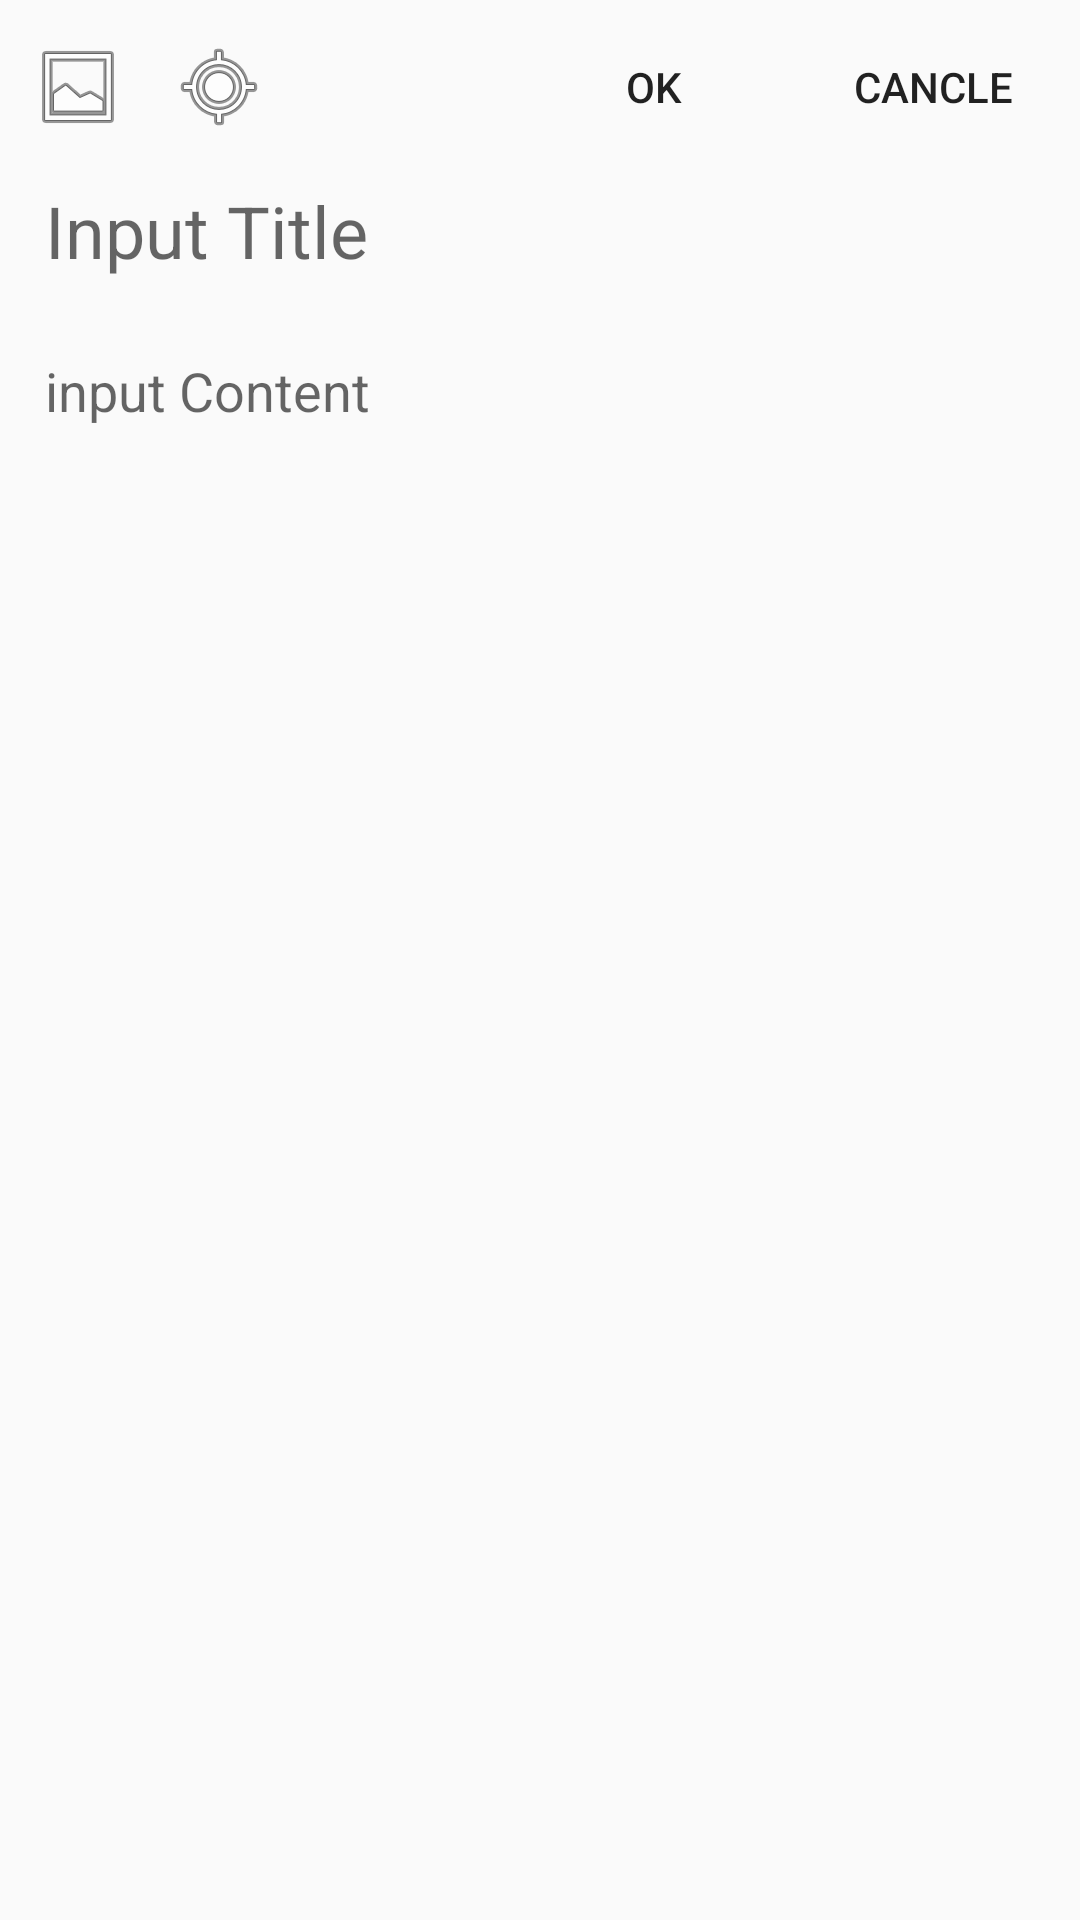

Icon click points for this 1080 x 1920 phone screenshot, format (x=x, y=y):
gallery: (x=78, y=87)
mylocation: (x=219, y=87)
